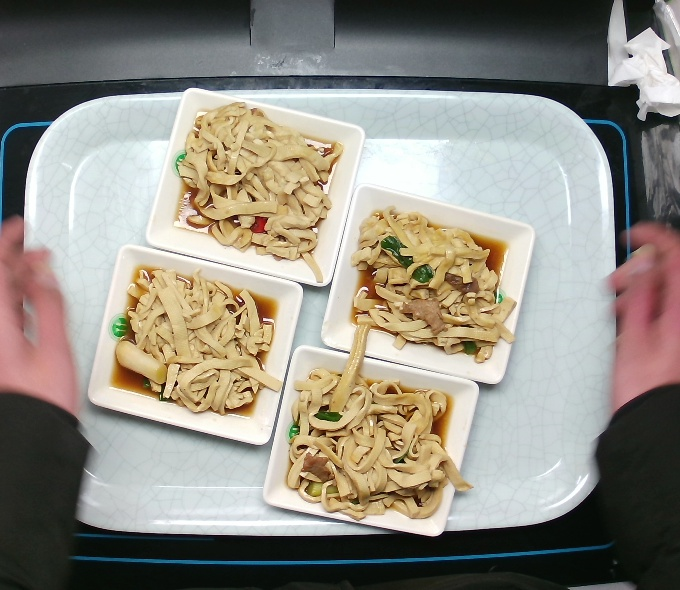wcq-QianZhang: (272, 350, 482, 524), (335, 195, 536, 367), (162, 98, 339, 284), (111, 268, 290, 428)
